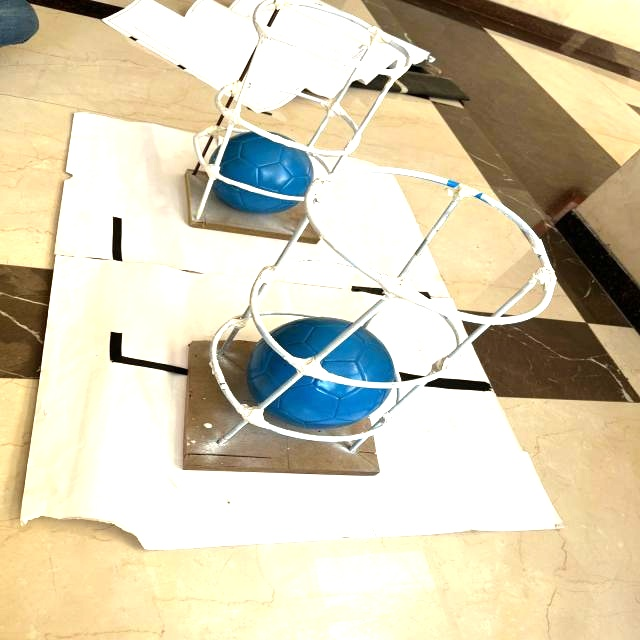blue_ball: (248, 303, 400, 435), (200, 124, 322, 222)
silo: (226, 168, 564, 480), (203, 2, 420, 220)
